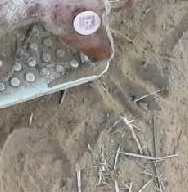text: (67, 1, 108, 43)
